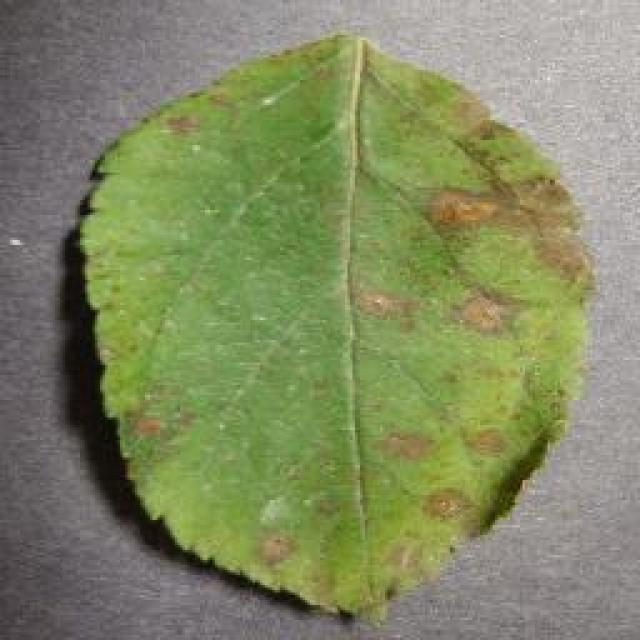Apple___Cedar_apple_rust: (76, 32, 601, 632)
